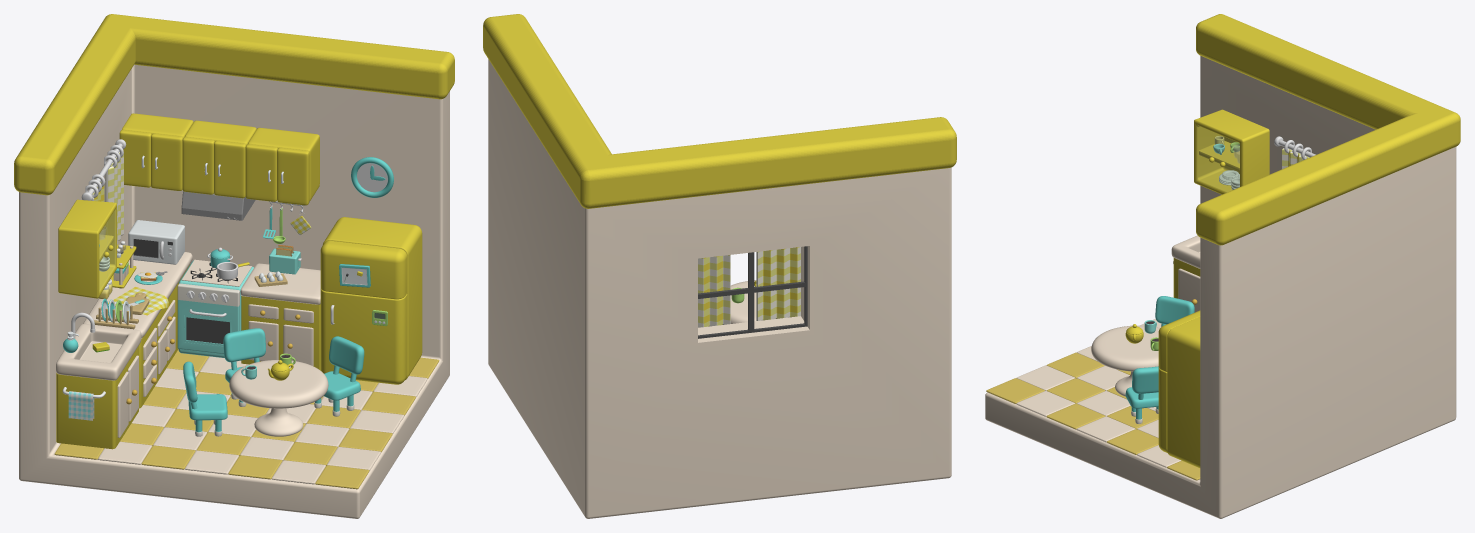
Rendered from kitchen_compressed.glb.
3 views of the same model, side by side, from view 1: azimuth 30°, elevation 25°; view 2: azimuth 150°, elevation 25°; view 3: azimuth 270°, elevation 25° (orthographic). The views are drawn at different scales.
Parts seen in each view (by area): view 1: Cube.009, Cube.061, Cube.029, Cube.049, Cube.021, table, Cube.063, Cube.062, Cube.048, Cube.039, Cube.073, Cube.011 (+34 smaller); view 2: Cube.009, Cube.061, Plane.007, Plane.004, table; view 3: Cube.009, Cube.061, Cube.029, Cube.063, Cube.021, table, BézierCurve.004, chair_back.001, Cube.049, Cube.020, chair_back.003, Cube.073 (+2 smaller).
Boxes of the visible parts, x1,y1,x2,y2 form: Cube.009: [19, 64, 449, 518]; Cube.061: [14, 14, 454, 195]; Cube.029: [54, 349, 439, 489]; Cube.049: [320, 288, 407, 384]; Cube.021: [58, 199, 116, 298]; table: [229, 360, 328, 436]; Cube.063: [323, 217, 422, 379]; Cube.062: [56, 345, 138, 449]; Cube.048: [320, 240, 407, 299]; Cube.039: [177, 283, 239, 353]; Cube.073: [56, 324, 141, 380]; Cube.011: [83, 252, 192, 337]; Cube.009: [488, 59, 951, 518]; Cube.061: [483, 14, 956, 208]; Plane.007: [698, 247, 800, 327]; Plane.004: [698, 246, 807, 338]; table: [730, 280, 756, 323]; Cube.009: [985, 56, 1456, 518]; Cube.061: [1196, 14, 1460, 245]; Cube.029: [986, 319, 1200, 480]; Cube.063: [1167, 317, 1200, 467]; Cube.021: [1194, 109, 1269, 194]; table: [1091, 325, 1159, 396]; BézierCurve.004: [1197, 125, 1239, 192]; chair_back.001: [1155, 296, 1194, 324]; Cube.049: [1158, 367, 1167, 452]; Cube.020: [1178, 268, 1200, 312]; chair_back.003: [1132, 366, 1158, 393]; Cube.073: [1171, 235, 1200, 268].
Bounding box in the file's own units: 3.15 × 2.23 × 3.12.
